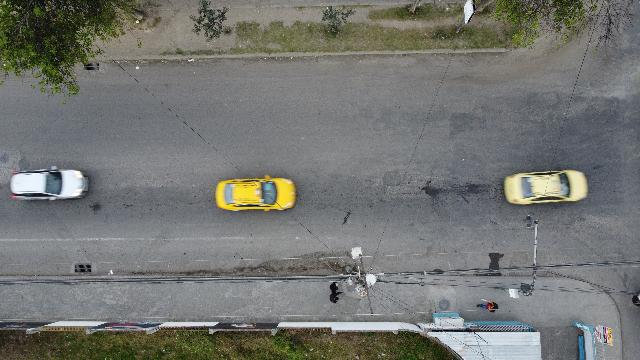Vehiculo: (504, 170, 588, 205), (216, 175, 296, 211), (10, 166, 89, 200)
